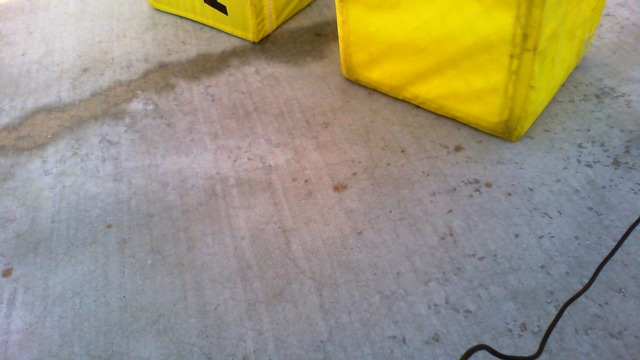cube: (332, 1, 609, 150), (147, 1, 316, 47)
